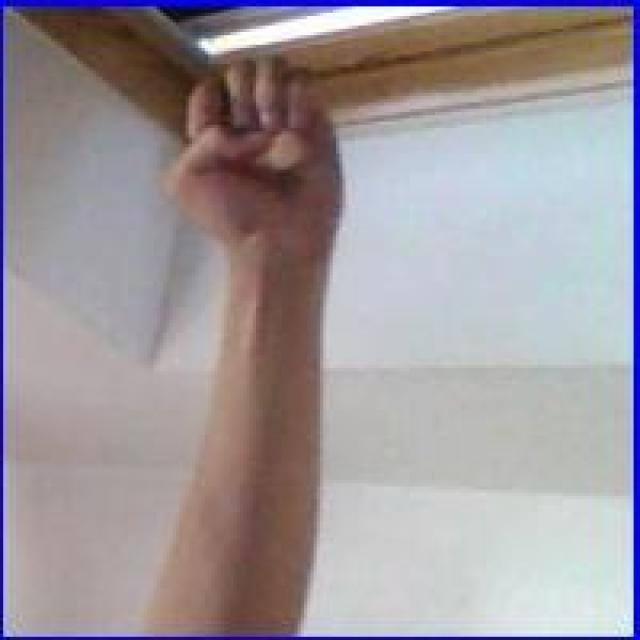E: (157, 61, 355, 269)
